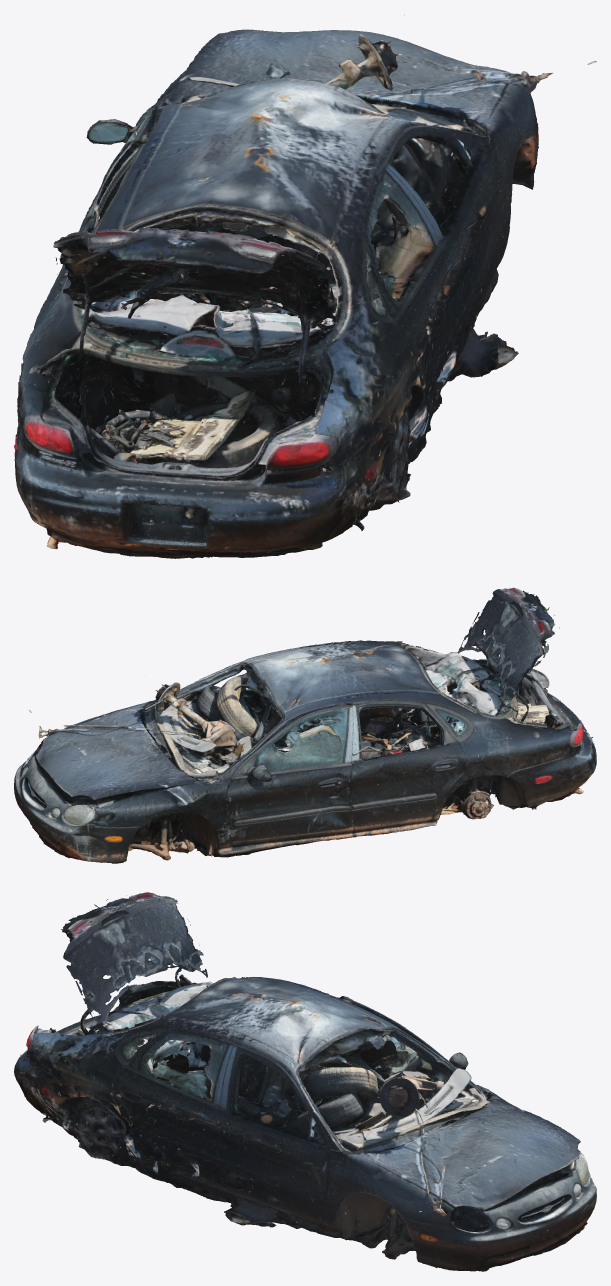
File: sf-destroyed-car-1-raw-scan-31b37f.glb
3 views of the same model, one above another, from view 1: azimuth 30°, elevation 25°; view 2: azimuth 150°, elevation 25°; view 3: azimuth 270°, elevation 25° (orthographic). The views are drawn at different scales.
Visible parts, largest first — view 1: Object_2; view 2: Object_2; view 3: Object_2.
Part boxes in pixels (left/top/right/bottom): Object_2: left=14, top=14, right=596, bottom=558; Object_2: left=14, top=587, right=596, bottom=863; Object_2: left=14, top=892, right=596, bottom=1271.
Bounding box in the file's own units: 16.46 × 6.16 × 16.78.
1 material, 1 textured.
